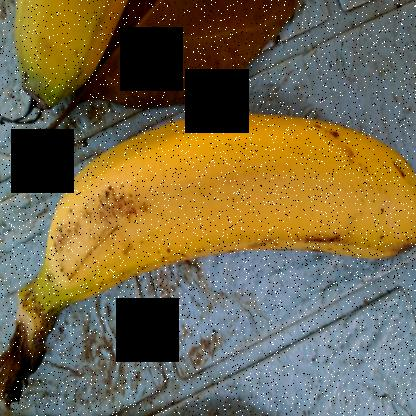ripe: (21, 75, 415, 343)
